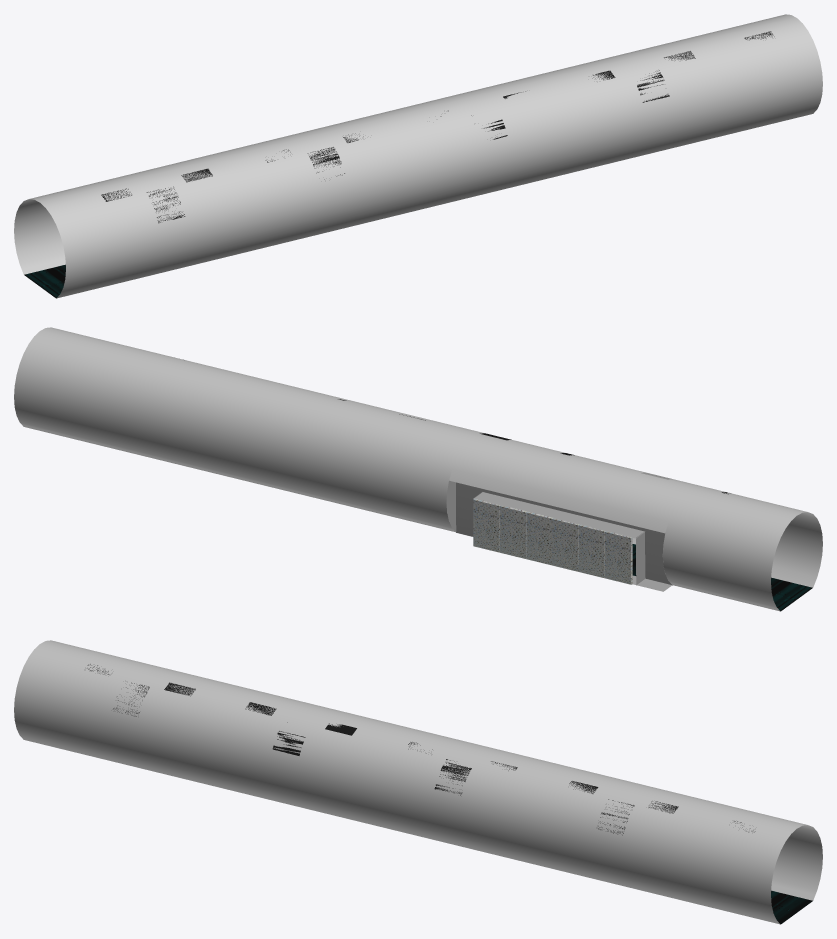
Rendered from Tunnel2.fbx.
3 views of the same model, one above another, from view 1: azimuth 30°, elevation 25°; view 2: azimuth 150°, elevation 25°; view 3: azimuth 330°, elevation 25° (orthographic).
Visible parts, largest first — view 1: polySurface34, polySurface3, polySurface45, polySurface42, polySurface43, polySurface44, polySurface4; view 2: polySurface3, polySurface34, polySurface45, polySurface44, polySurface43, polySurface42, polySurface22, polySurface14, polySurface4; view 3: polySurface34, polySurface45, polySurface3, polySurface43, polySurface44, polySurface42, polySurface4.
Boxes of the visible parts, left/top/right/bottom form: polySurface34: left=138, top=120, right=390, bottom=271; polySurface3: left=14, top=172, right=174, bottom=298; polySurface45: left=678, top=14, right=822, bottom=140; polySurface42: left=354, top=93, right=498, bottom=219; polySurface43: left=462, top=67, right=606, bottom=192; polySurface44: left=569, top=40, right=714, bottom=166; polySurface4: left=24, top=264, right=65, bottom=298; polySurface3: left=663, top=485, right=822, bottom=611; polySurface34: left=449, top=433, right=698, bottom=544; polySurface45: left=14, top=327, right=158, bottom=453; polySurface44: left=122, top=353, right=267, bottom=479; polySurface43: left=230, top=380, right=374, bottom=505; polySurface42: left=338, top=406, right=482, bottom=532; polySurface22: left=473, top=498, right=632, bottom=584; polySurface14: left=446, top=480, right=672, bottom=591; polySurface4: left=632, top=544, right=812, bottom=611; polySurface34: left=122, top=666, right=375, bottom=818; polySurface45: left=662, top=798, right=822, bottom=924; polySurface3: left=14, top=640, right=158, bottom=765; polySurface43: left=446, top=746, right=590, bottom=871; polySurface44: left=554, top=772, right=698, bottom=897; polySurface42: left=338, top=719, right=482, bottom=845; polySurface4: left=771, top=890, right=812, bottom=924.
Bounding box in the file's own units: 16.8 × 1.79 × 2.02.
